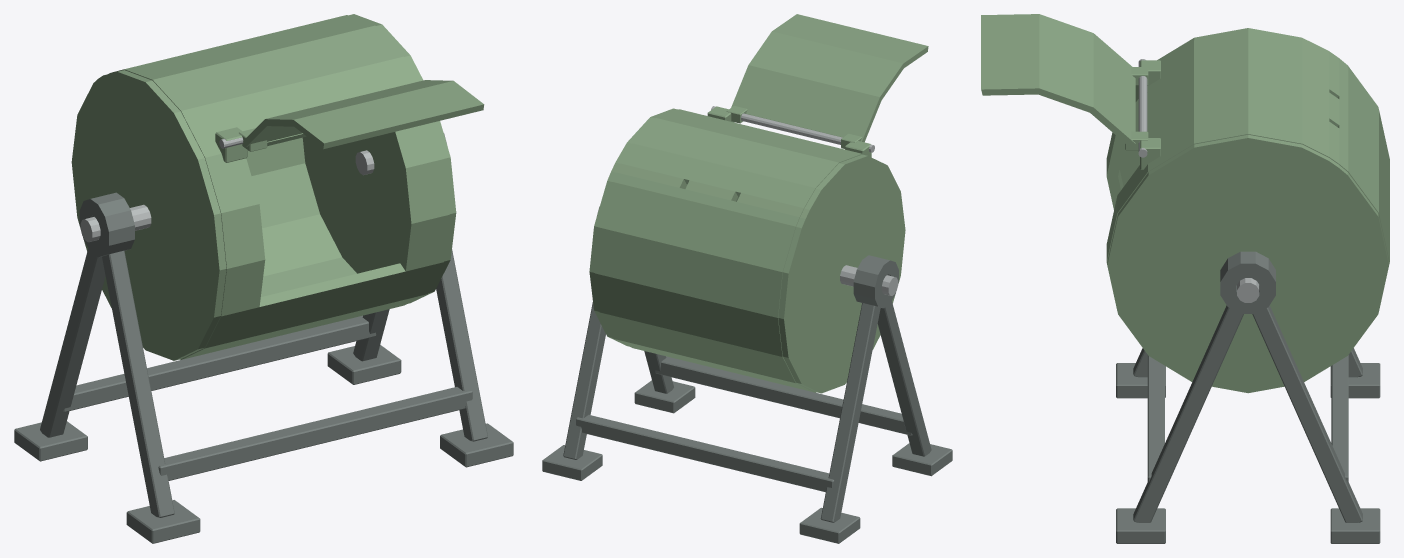
3 renders of one model, left to right at view 1: azimuth 30°, elevation 25°; view 2: azimuth 150°, elevation 25°; view 3: azimuth 270°, elevation 25°, orthographic. The views are drawn at different scales.
Visible parts, largest first — view 1: Hollow drum with access and two through vents, Closed drum end wall, Closed drum end wall.001, Fixed open curved access cover, Stand lower cross tie, Stand lower cross tie.001, Splayed frame leg, Splayed frame leg.001, Splayed frame leg.002, True bore spindle bearing, Frame ground foot, Frame ground foot.002 (+5 smaller); view 2: Hollow drum with access and two through vents, Closed drum end wall, Fixed open curved access cover, Stand lower cross tie.001, Stand lower cross tie, Splayed frame leg.001, Splayed frame leg, Splayed frame leg.003, True bore spindle bearing, Closed drum end wall.001, Frame ground foot.001, Frame ground foot.003 (+5 smaller); view 3: Closed drum end wall.001, Hollow drum with access and two through vents, Fixed open curved access cover, Splayed frame leg.002, Splayed frame leg.003, True bore spindle bearing.001, Stand lower cross tie, Stand lower cross tie.001, Frame ground foot.003, Frame ground foot.002, Closed drum end wall, Frame ground foot.001 (+3 smaller).
Part boxes in pixels (left/top/right/bottom): Hollow drum with access and two through vents: left=109, top=15, right=449, bottom=359; Closed drum end wall: left=71, top=70, right=226, bottom=360; Closed drum end wall.001: left=302, top=14, right=456, bottom=303; Fixed open curved access cover: left=243, top=80, right=484, bottom=149; Stand lower cross tie: left=158, top=387, right=472, bottom=480; Stand lower cross tie.001: left=63, top=315, right=376, bottom=412; Splayed frame leg: left=102, top=250, right=174, bottom=517; Splayed frame leg.001: left=40, top=248, right=105, bottom=437; Splayed frame leg.002: left=436, top=249, right=487, bottom=441; True bore spindle bearing: left=79, top=192, right=134, bottom=257; Frame ground foot: left=126, top=500, right=200, bottom=543; Frame ground foot.002: left=440, top=423, right=513, bottom=467; Hollow drum with access and two through vents: left=595, top=109, right=863, bottom=392; Closed drum end wall: left=778, top=154, right=905, bottom=393; Fixed open curved access cover: left=731, top=14, right=928, bottom=142; Stand lower cross tie.001: left=576, top=415, right=834, bottom=492; Stand lower cross tie: left=655, top=356, right=912, bottom=435; Splayed frame leg.001: left=820, top=303, right=880, bottom=522; Splayed frame leg: left=877, top=301, right=931, bottom=456; Splayed frame leg.003: left=563, top=302, right=605, bottom=459; True bore spindle bearing: left=853, top=255, right=898, bottom=308; Closed drum end wall.001: left=589, top=108, right=687, bottom=346; Frame ground foot.001: left=799, top=507, right=860, bottom=543; Frame ground foot.003: left=542, top=445, right=602, bottom=480; Closed drum end wall.001: left=1107, top=134, right=1388, bottom=393; Hollow drum with access and two through vents: left=1106, top=30, right=1389, bottom=264; Fixed open curved access cover: left=981, top=14, right=1135, bottom=147; Splayed frame leg.002: left=1133, top=305, right=1243, bottom=522; Splayed frame leg.003: left=1252, top=305, right=1362, bottom=522; True bore spindle bearing.001: left=1220, top=251, right=1275, bottom=313; Stand lower cross tie: left=1147, top=355, right=1164, bottom=484; Stand lower cross tie.001: left=1331, top=355, right=1348, bottom=483; Frame ground foot.003: left=1330, top=508, right=1380, bottom=543; Frame ground foot.002: left=1116, top=508, right=1165, bottom=543; Closed drum end wall: left=1119, top=28, right=1378, bottom=186; Frame ground foot.001: left=1330, top=363, right=1380, bottom=398.
Size of the model in its own units: 1.04 by 1.18 by 1.07.
